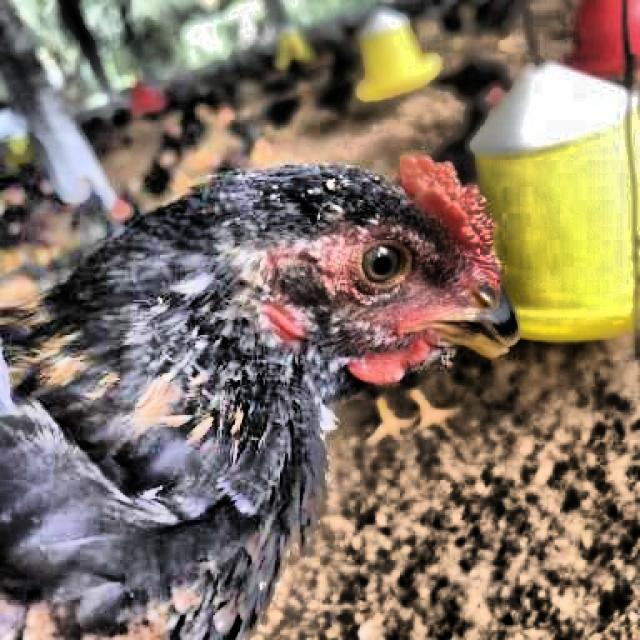Healthy: (342, 230, 430, 300)
